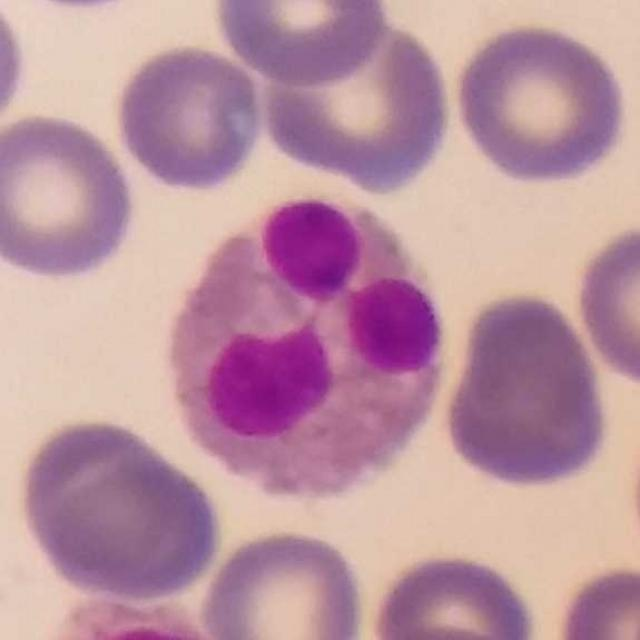eosino: (165, 186, 443, 504)
